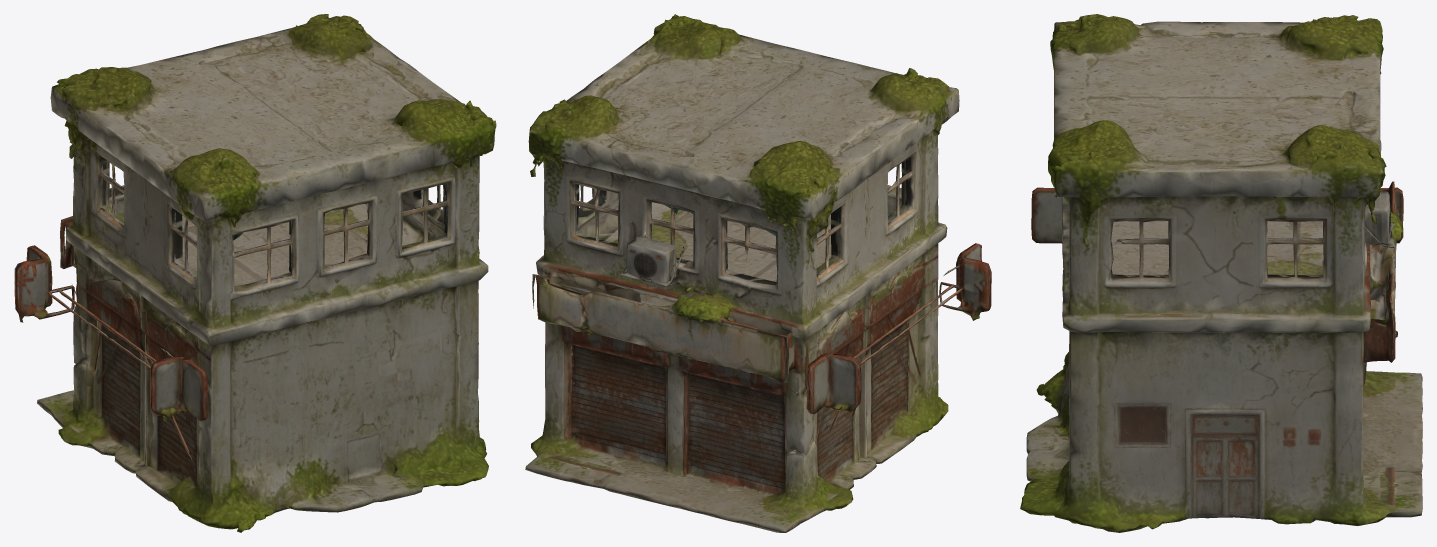
File: City_Shop.fbx
The picture shows the model from 3 angles, left to right: view 1: azimuth 30°, elevation 25°; view 2: azimuth 150°, elevation 25°; view 3: azimuth 270°, elevation 25°; orthographic projection. The views are drawn at different scales.
Visible parts, largest first — view 1: City_Shop; view 2: City_Shop; view 3: City_Shop.
Part boxes in pixels (x1,y1,x2,y2): City_Shop: (14, 14, 496, 532); City_Shop: (525, 14, 991, 532); City_Shop: (1020, 14, 1422, 532).
Bounding box in the file's own units: 7.05 × 7 × 6.71.
Materials: 1 (1 with a texture image).
